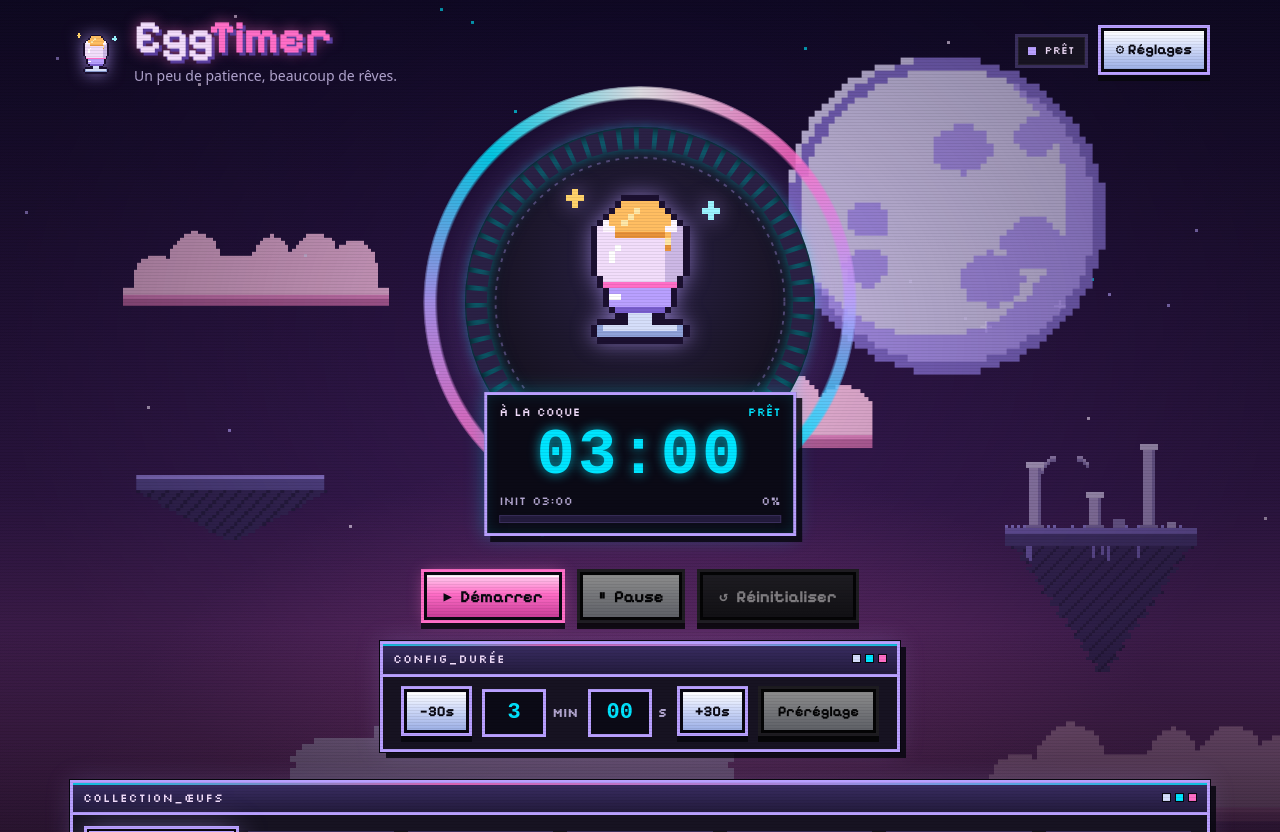
Scenario: fin de cuisson › panneau de fin, son, statut, et une seule notification
Click the button "▶ Démarrer": [493, 596] box x1=424 y1=572 x2=562 y2=620
Wait 190500 ms
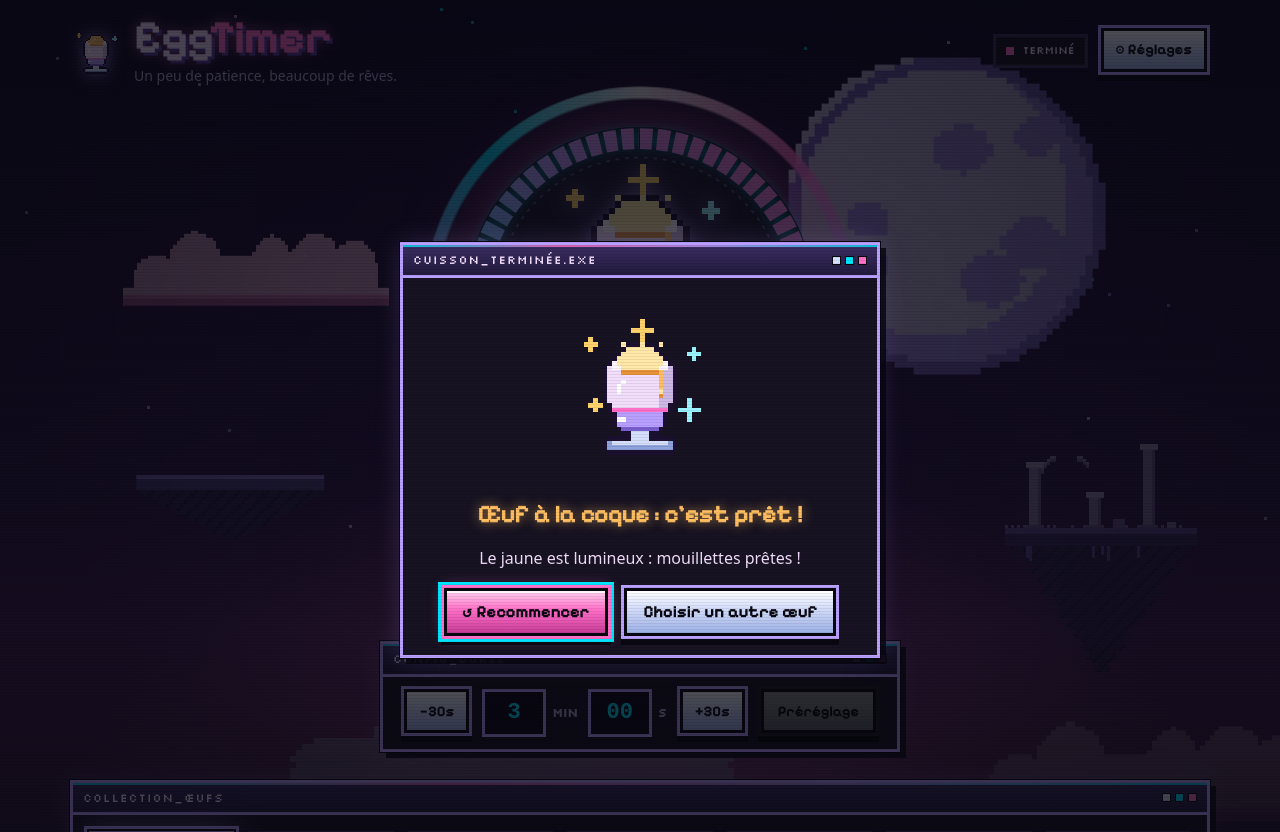
Expected: the element showing "TERMINÉ" is shown, x1=993 y1=34 x2=1088 y2=68
Expected: the dialog shows "c’est prêt", x1=649 y1=500 x2=802 y2=529
